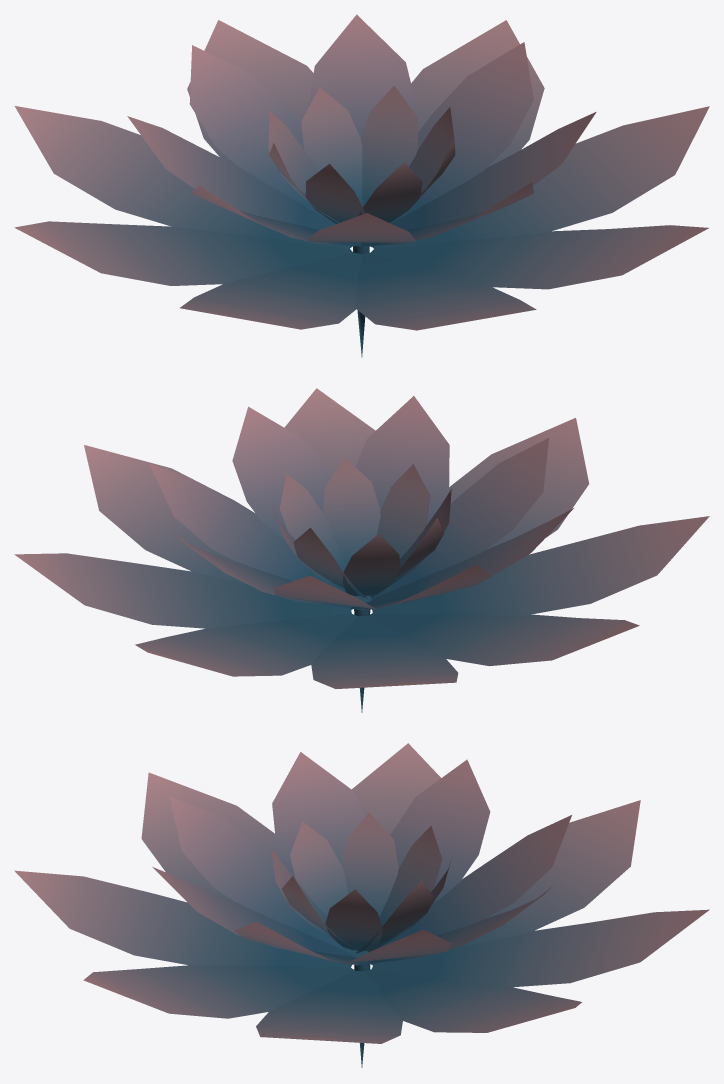
Rendered from plants-cacti-succulents-pink-rosette_v2.glb.
3 views of the same model, one above another, from view 1: azimuth 30°, elevation 25°; view 2: azimuth 150°, elevation 25°; view 3: azimuth 270°, elevation 25° (orthographic). The views are drawn at different scales.
Visible parts, largest first — view 1: Pink Rosette_v2; view 2: Pink Rosette_v2; view 3: Pink Rosette_v2.
Part boxes in pixels (x1,y1,x2,y2): Pink Rosette_v2: (14,14,709,357); Pink Rosette_v2: (14,388,709,712); Pink Rosette_v2: (14,743,709,1067).
Size of the model in its own units: 0.25 by 0.0909 by 0.25.
